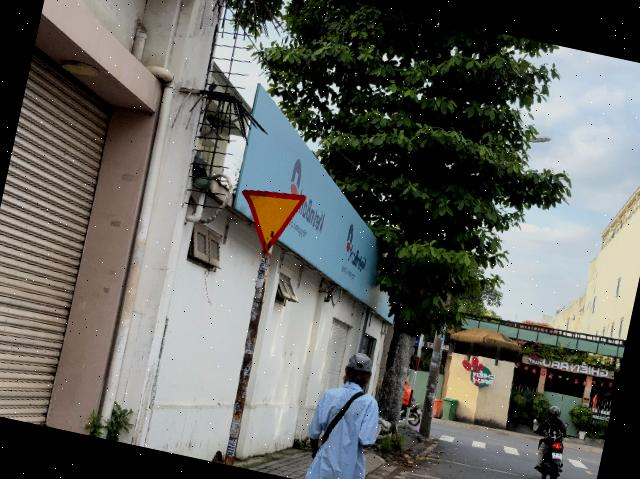giao-nhau-voi-duong-uu-tien: (230, 182, 307, 258)
